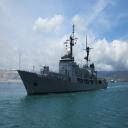Fragata: (17, 15, 109, 99)
